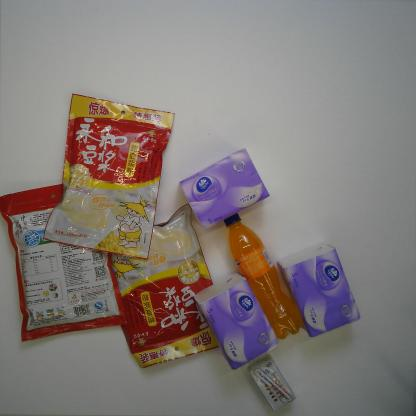Drink: (223, 213, 305, 340)
Instant Drink: (43, 91, 175, 260), (0, 182, 128, 343), (112, 202, 219, 368)
Milk: (247, 353, 297, 412)
Tissue: (193, 271, 278, 371), (276, 243, 361, 339), (178, 147, 270, 230)
